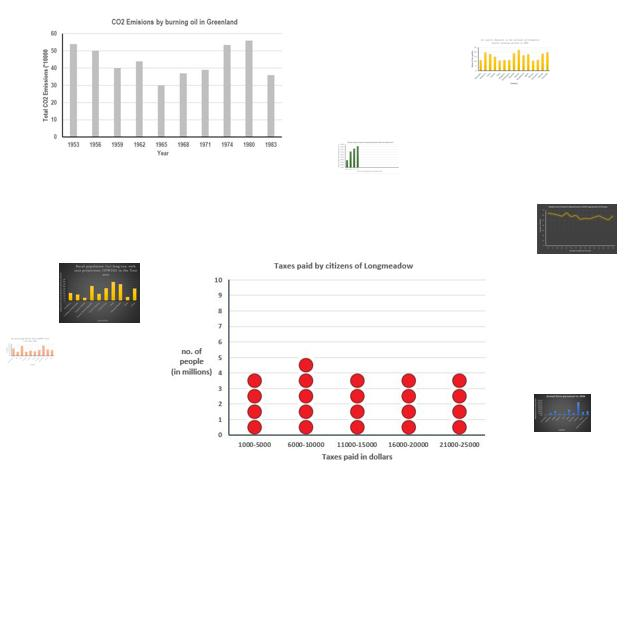Graph: (161, 254, 491, 470), (38, 16, 284, 158), (59, 263, 140, 323), (469, 37, 551, 86), (537, 204, 617, 254), (534, 394, 591, 432), (337, 140, 400, 174), (5, 337, 55, 366)
